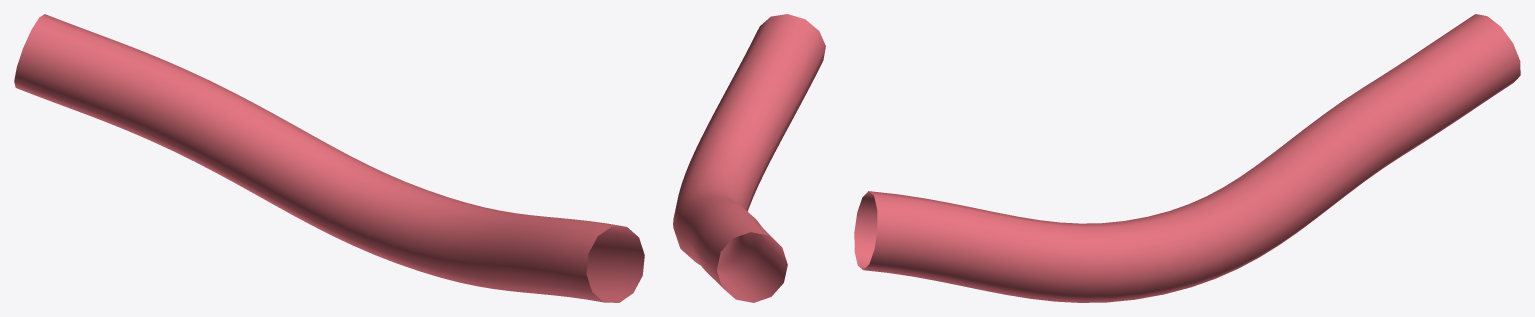
3 views of the same model, side by side, from view 1: azimuth 30°, elevation 25°; view 2: azimuth 150°, elevation 25°; view 3: azimuth 270°, elevation 25° (orthographic). The views are drawn at different scales.
Visible parts, largest first — view 1: ZA_50f951997ce4f063; view 2: ZA_50f951997ce4f063; view 3: ZA_50f951997ce4f063.
Part boxes in pixels (bbox=[...]): ZA_50f951997ce4f063: bbox=[14, 14, 644, 302]; ZA_50f951997ce4f063: bbox=[673, 14, 825, 302]; ZA_50f951997ce4f063: bbox=[854, 14, 1520, 302].
Size of the model in its own units: 0.00721 by 0.00364 by 0.0126.
